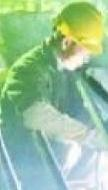gloves: (0, 1, 1, 1)
hard-hat: (52, 2, 104, 56)
ppe-suit: (0, 0, 1, 1)
